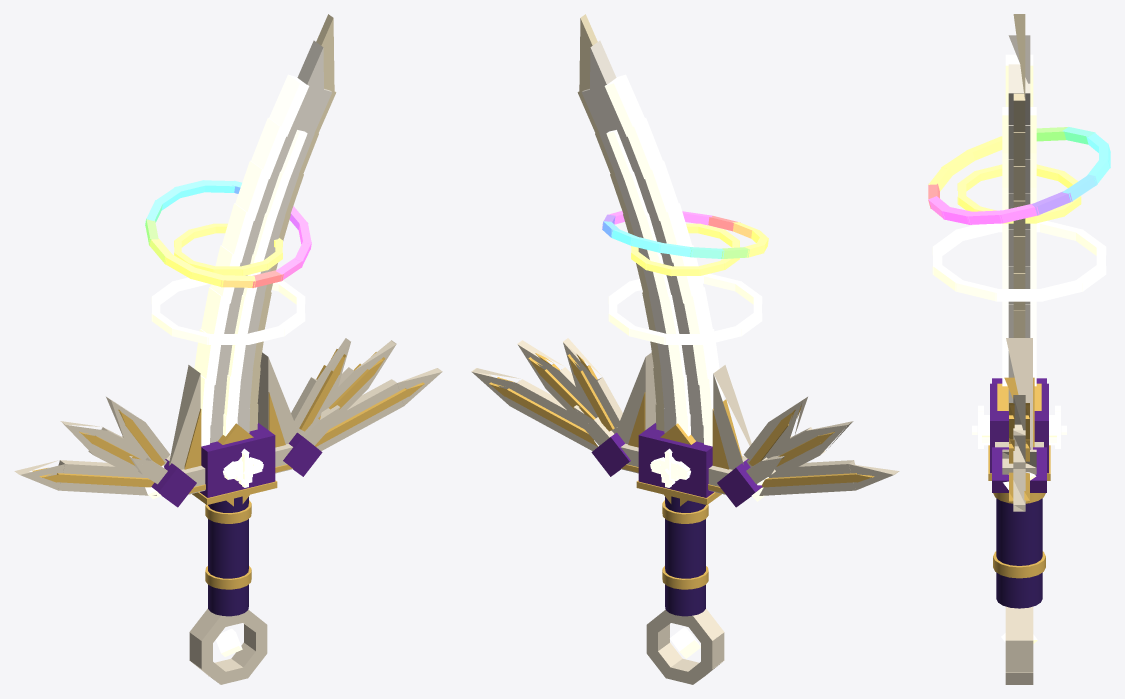
The picture shows the model from 3 angles, left to right: view 1: azimuth 30°, elevation 25°; view 2: azimuth 150°, elevation 25°; view 3: azimuth 270°, elevation 25°; orthographic projection. The views are drawn at different scales.
Parts seen in each view (by area): view 1: thousand-nights-fang; view 2: thousand-nights-fang; view 3: thousand-nights-fang.
Boxes of the visible parts, x1,y1,x2,y2 form: thousand-nights-fang: (14, 14, 442, 684); thousand-nights-fang: (471, 14, 899, 684); thousand-nights-fang: (928, 14, 1110, 684).
Size of the model in its own units: 0.5592 by 0.8034 by 0.1849.
